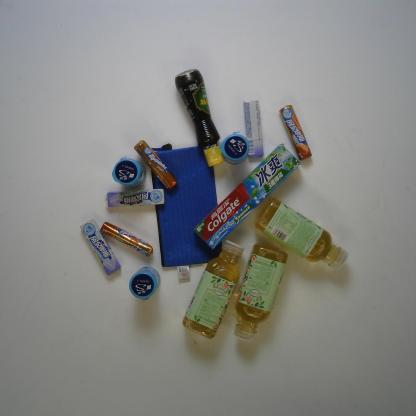Candy: (80, 218, 122, 276), (133, 139, 178, 191), (278, 103, 313, 161), (100, 221, 153, 257), (242, 99, 264, 158), (104, 187, 165, 208)
Drink: (252, 196, 350, 271), (182, 233, 245, 339), (232, 240, 290, 344)
Gum: (128, 266, 162, 303), (111, 154, 147, 187), (219, 130, 250, 166)
Personal Hygiene: (193, 143, 302, 252)
Seasoner: (172, 67, 226, 170)
Stationery: (145, 141, 224, 284)
